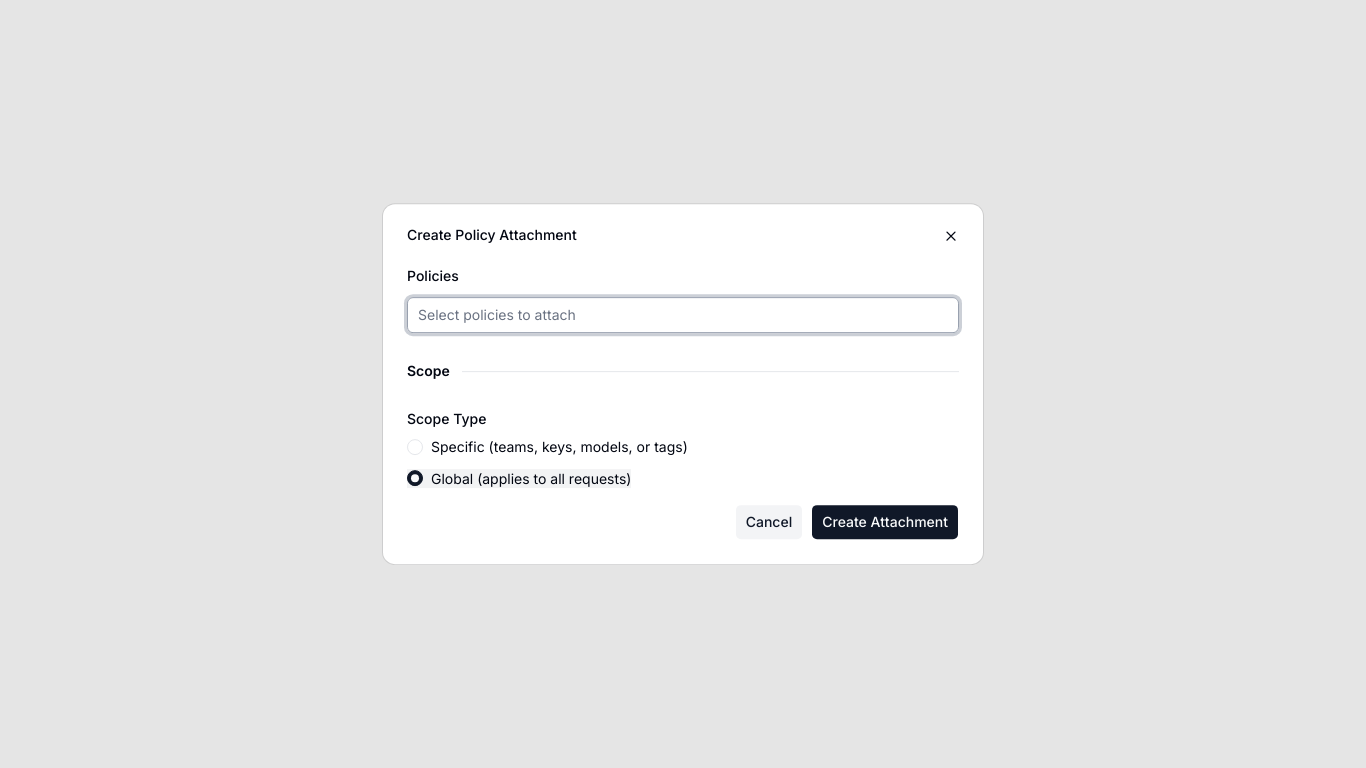
Test: AddAttachmentForm › should show the 'Estimate Impact' button only when scope is specific
This screenshot has width=1366, height=768.
Expected: the heading "Create Policy Attachment" is shown, x1=407 y1=226 x2=577 y2=243
Expected: the button "estimate impact" is not shown
Click the radio button named "specific" next to "Specific (teams, keys, models, or tags)": (415, 447) x1=407 y1=439 x2=423 y2=455
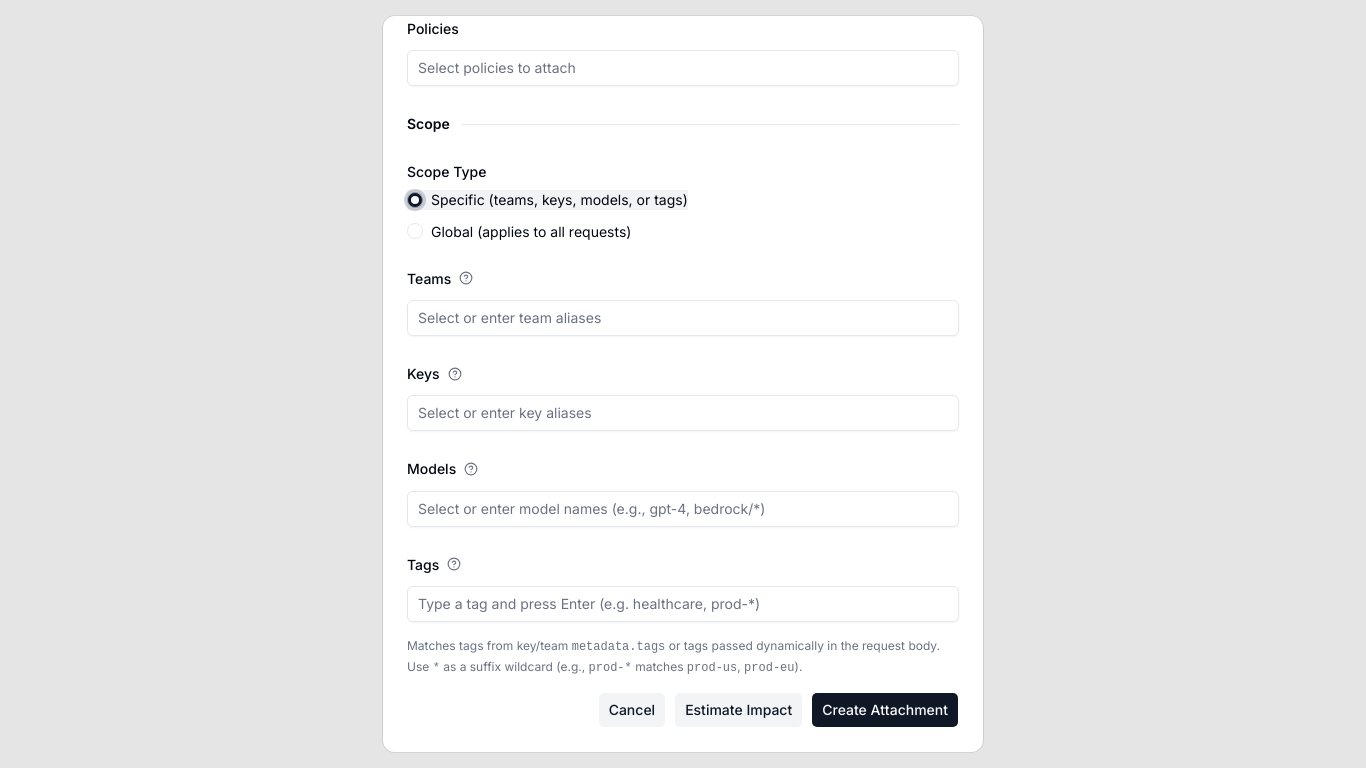
Now the button "Estimate Impact" is shown, box x1=674 y1=692 x2=803 y2=728
